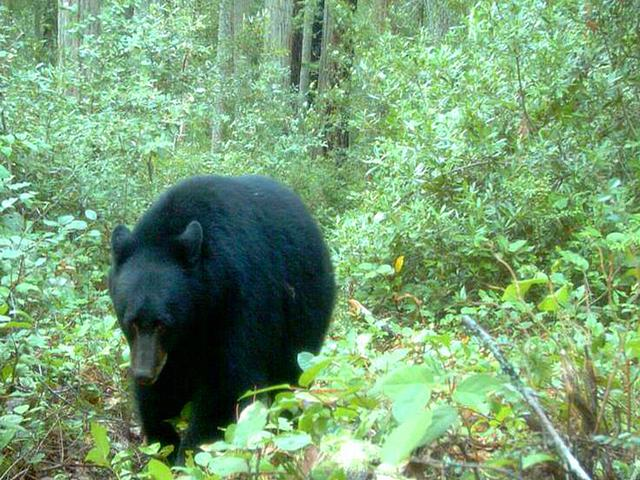Bear: (100, 168, 349, 434)
